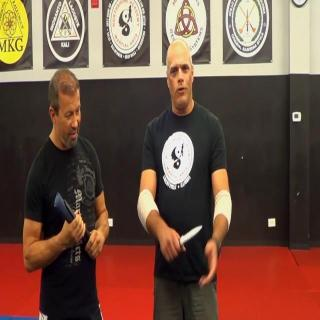knife: (163, 223, 204, 263)
